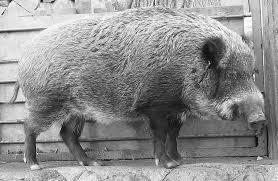wildboar: (6, 5, 268, 170)
